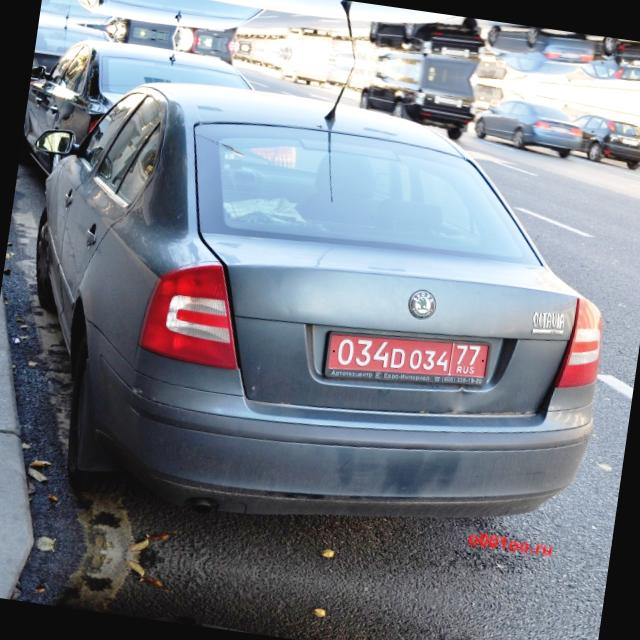diplomatic: (314, 312, 500, 404)
